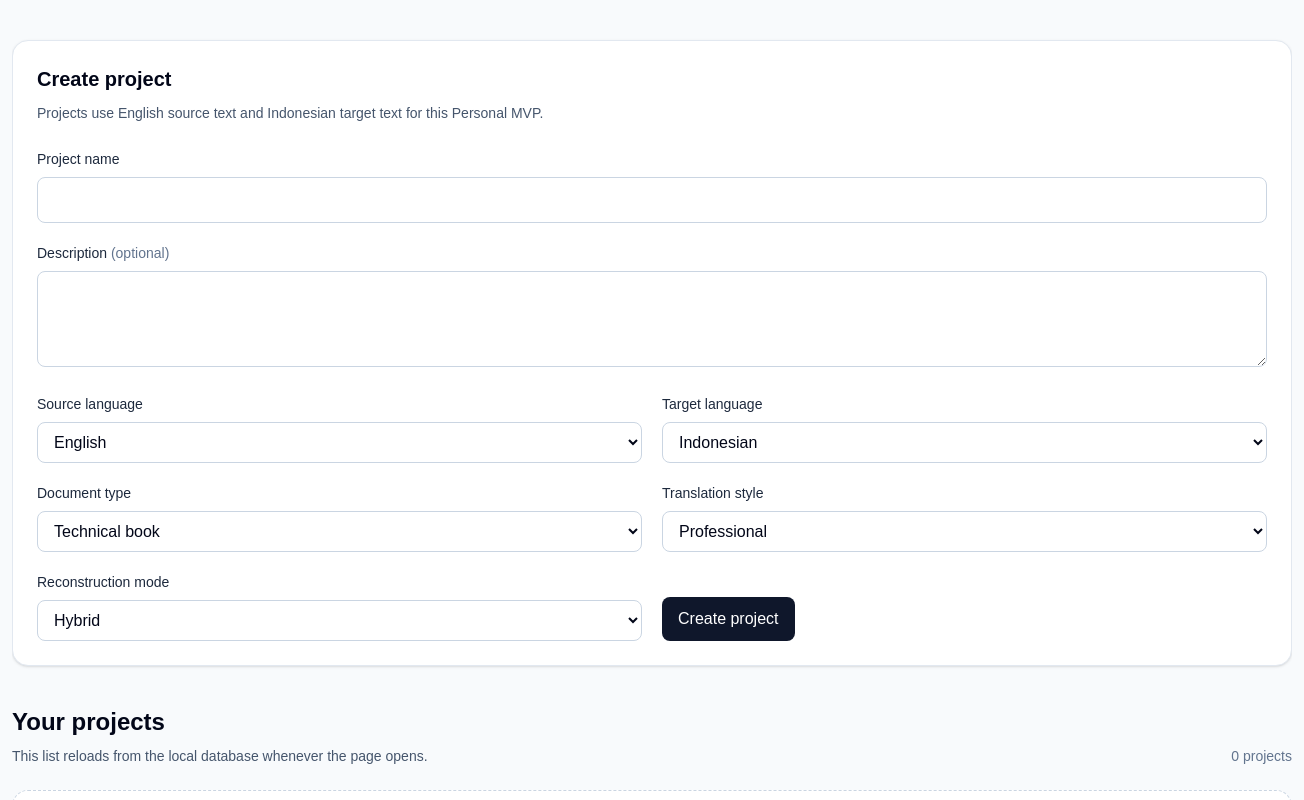
it: project dashboard › blocks an invalid create request before contacting the API
The width and height of the screenshot is (1304, 800).
Click the button "Create project" at x=728, y=619, box [662,597,794,641]
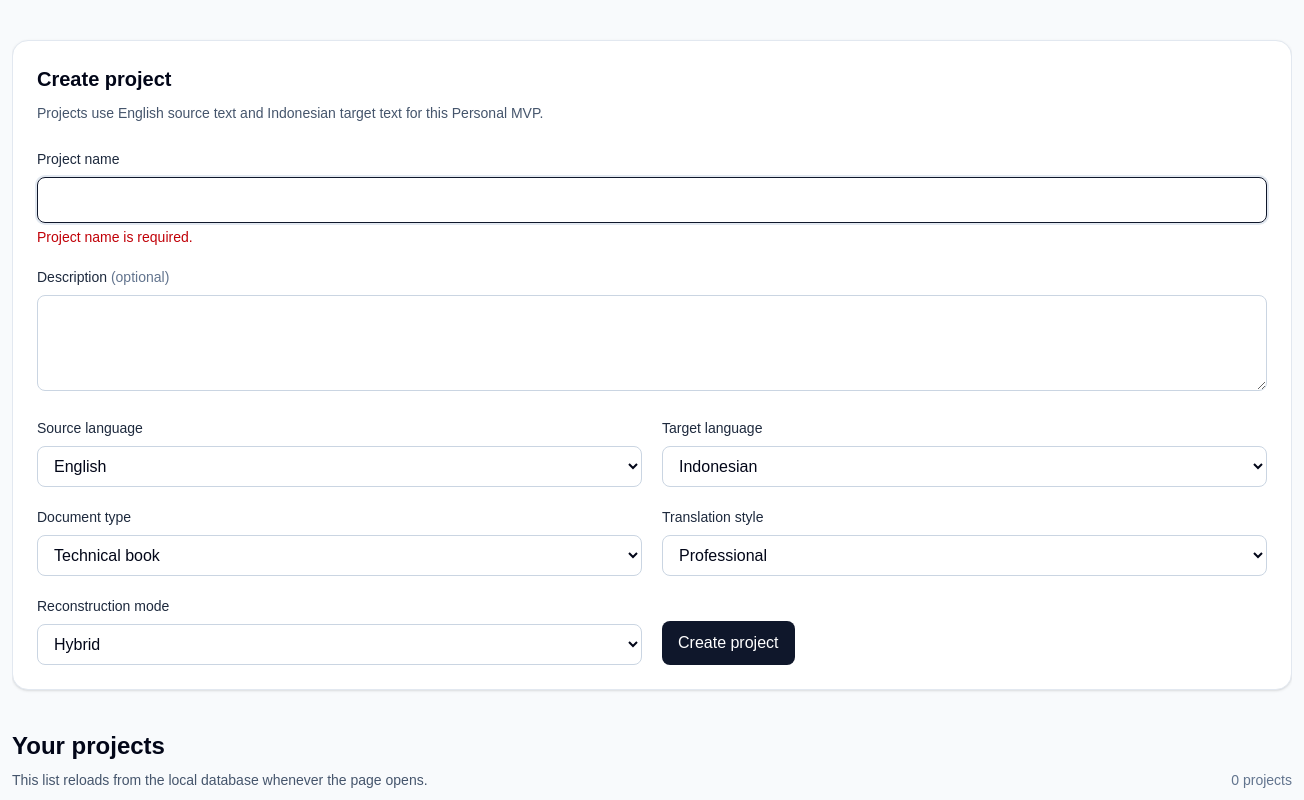
Now the text "Project name is required." is shown, box [37,229,193,245]
